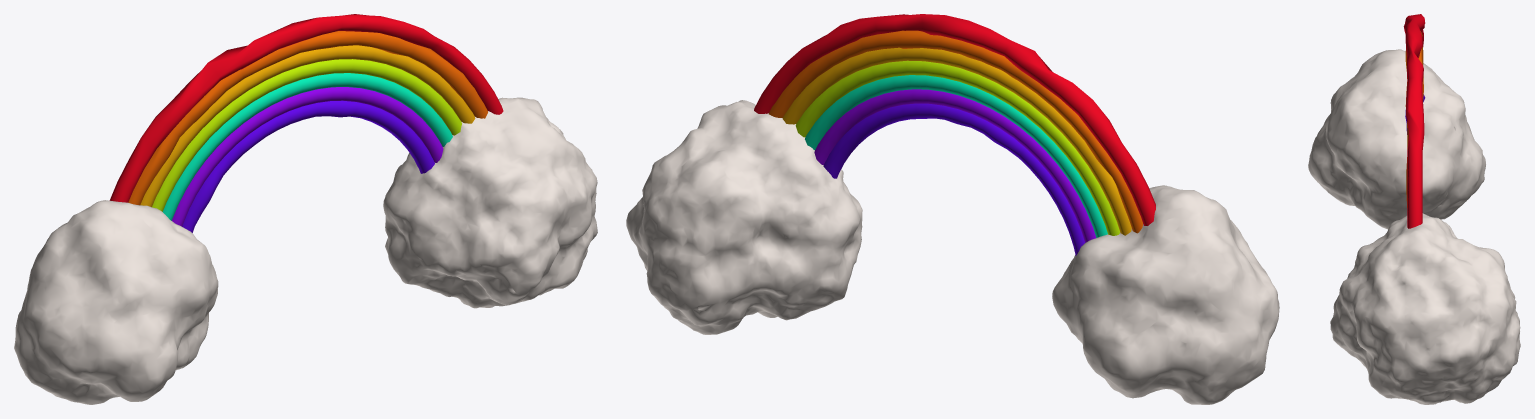
The model's file is arcoiris.gltf.
3 views of the same model, side by side, from view 1: azimuth 30°, elevation 25°; view 2: azimuth 150°, elevation 25°; view 3: azimuth 270°, elevation 25° (orthographic). The views are drawn at different scales.
Parts seen in each view (by area): view 1: Gee_8, Alpha_7, Alpha.0006_6, Alpha.0005_5, Alpha.0004_4, Alpha.0003_3, Alpha.0002_2, Alpha.0000_0, Alpha.0001_1; view 2: Gee_8, Alpha_7, Alpha.0006_6, Alpha.0005_5, Alpha.0004_4, Alpha.0003_3, Alpha.0002_2, Alpha.0001_1, Alpha.0000_0; view 3: Gee_8, Alpha_7, Alpha.0006_6, Alpha.0005_5.
Part boxes in pixels (box(x1,y1,x2,y2)): Gee_8: box(383, 97, 597, 308); Alpha_7: box(14, 200, 218, 404); Alpha.0006_6: box(109, 14, 503, 202); Alpha.0005_5: box(128, 31, 487, 205); Alpha.0004_4: box(140, 45, 475, 207); Alpha.0003_3: box(152, 59, 461, 211); Alpha.0002_2: box(163, 73, 452, 220); Alpha.0000_0: box(182, 100, 434, 232); Alpha.0001_1: box(172, 87, 443, 226); Gee_8: box(626, 100, 862, 334); Alpha_7: box(1052, 185, 1279, 404); Alpha.0006_6: box(754, 14, 1155, 225); Alpha.0005_5: box(768, 30, 1142, 233); Alpha.0004_4: box(782, 47, 1131, 235); Alpha.0003_3: box(795, 60, 1119, 235); Alpha.0002_2: box(805, 75, 1107, 237); Alpha.0001_1: box(814, 89, 1096, 242); Alpha.0000_0: box(823, 103, 1084, 255); Gee_8: box(1330, 213, 1520, 404); Alpha_7: box(1308, 49, 1485, 229); Alpha.0006_6: box(1403, 14, 1425, 228); Alpha.0005_5: box(1405, 31, 1423, 207).
Bounding box in the file's own units: 4.95 × 2.68 × 1.85.
